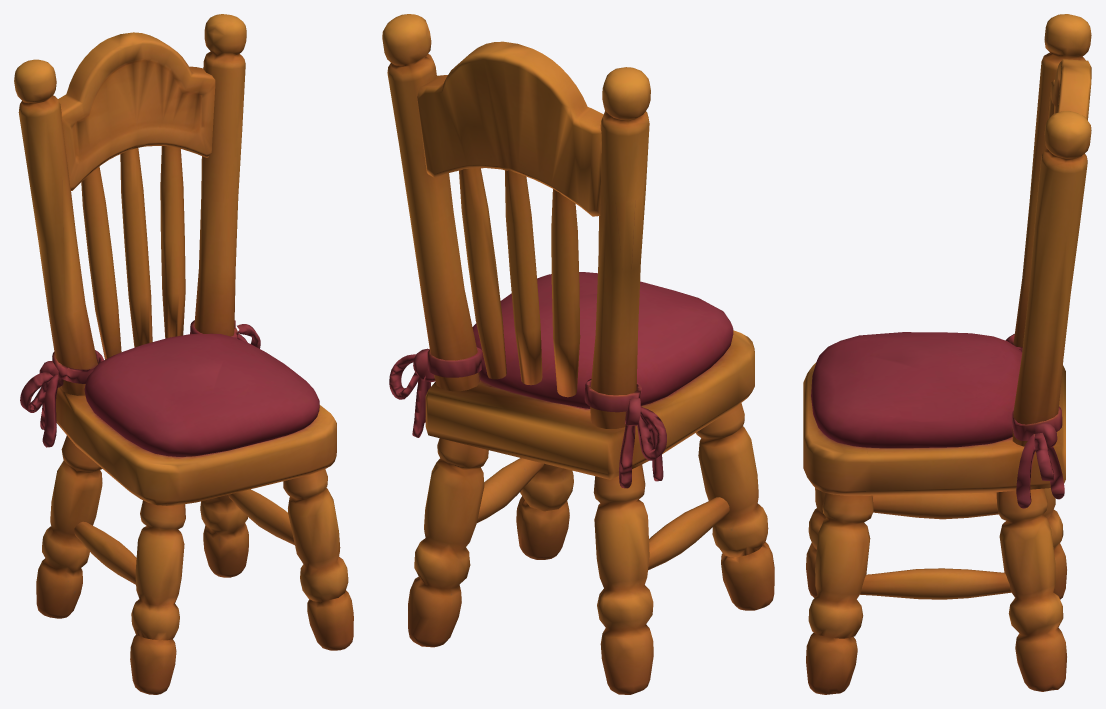
Rendered from giant_chair.glb.
3 renders of one model, left to right at view 1: azimuth 30°, elevation 25°; view 2: azimuth 150°, elevation 25°; view 3: azimuth 270°, elevation 25°, orthographic. The views are drawn at different scales.
Visible parts, largest first — view 1: giant_chair; view 2: giant_chair; view 3: giant_chair.
Part boxes in pixels (x1,y1,x2,y2): giant_chair: [14, 14, 353, 694]; giant_chair: [382, 14, 774, 694]; giant_chair: [803, 14, 1091, 694].
Bounding box in the file's own units: 4 × 8.85 × 4.
1 material, 1 textured.
